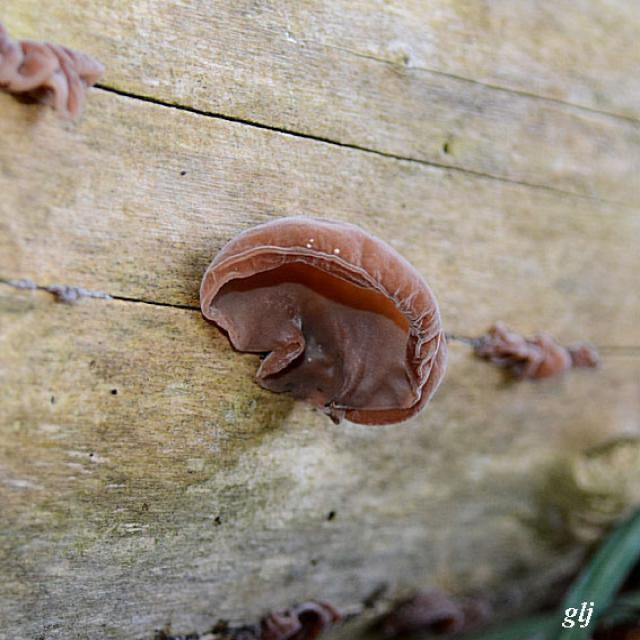Auricularia auricula: (199, 216, 442, 427)
